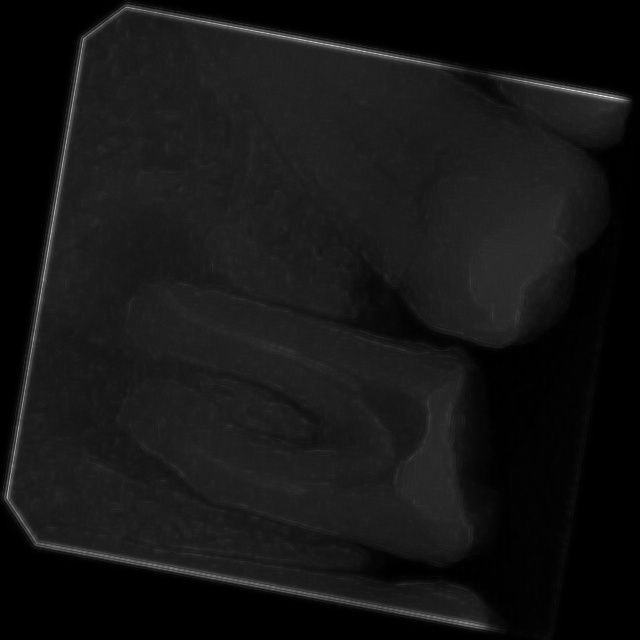Class 1- complete endodontic treatment: (68, 256, 516, 586)
cavity: (114, 12, 628, 348)
